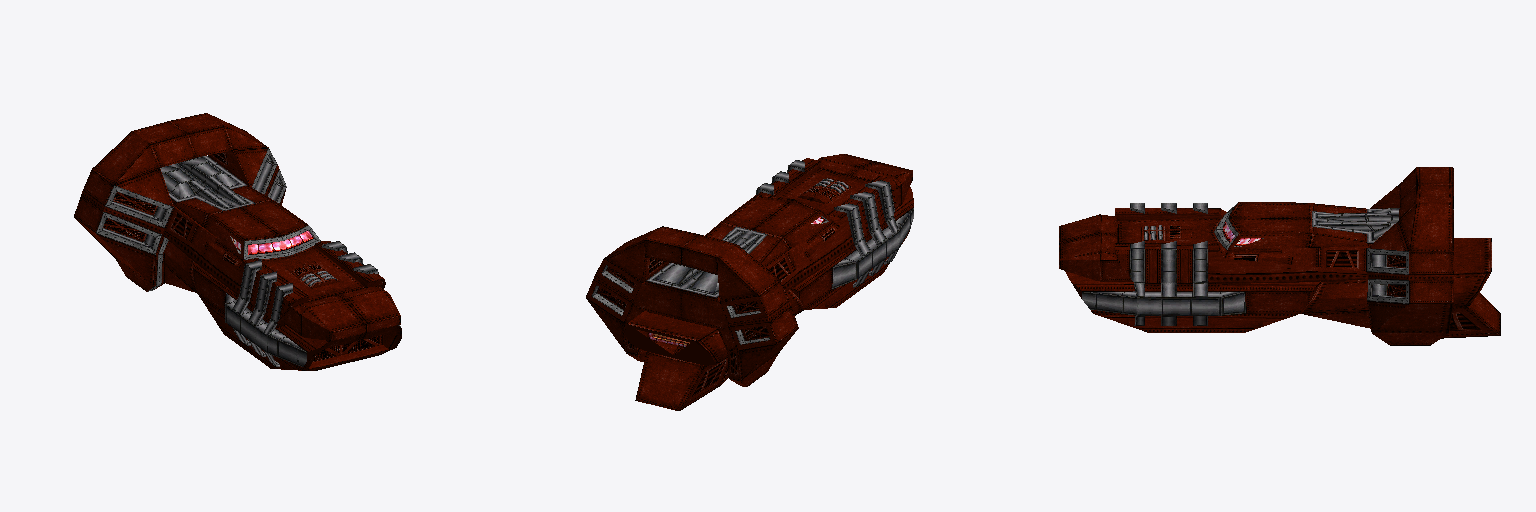
The picture shows the model from 3 angles: view 1: azimuth 30°, elevation 25°; view 2: azimuth 150°, elevation 25°; view 3: azimuth 270°, elevation 25°; orthographic projection.
Visible parts, largest first — view 1: Lightning_Chasis_C; view 2: Lightning_Chasis_C; view 3: Lightning_Chasis_C.
Part boxes in pixels (x1,y1,x2,y2): Lightning_Chasis_C: (74, 113, 401, 370); Lightning_Chasis_C: (586, 154, 913, 410); Lightning_Chasis_C: (1059, 167, 1500, 345).
Size of the model in its own units: 1.92 by 1.38 by 3.86.
Materials: 4 (3 with a texture image).